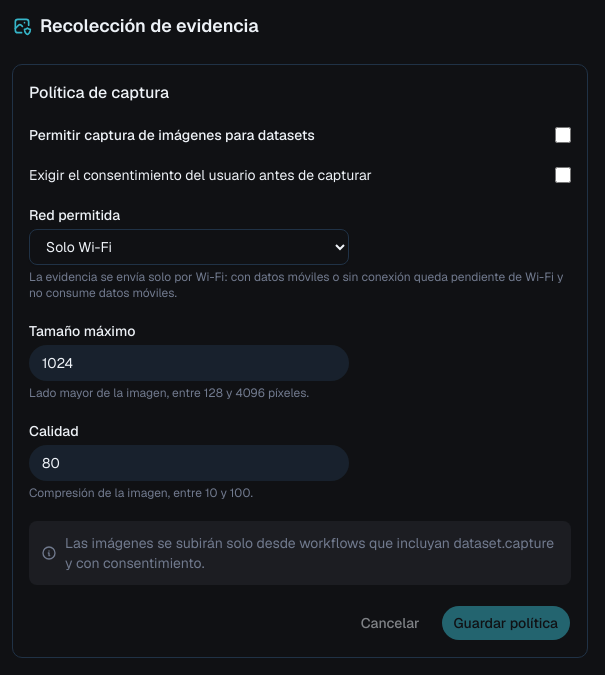
US-069: Respetar la política de red para evidencia › explains the selected network under Red permitida
Check: the switch labelled "Permitir captura de imágenes para datasets" is shown, box 555,127 -> 571,143
Check: the text with id "collection-network-help" shows "La evidencia se envía solo por Wi-Fi: con datos móviles o sin conexión queda pendiente de Wi-Fi y no consume datos móviles.", box 29,269 -> 563,301
Select "Wi-Fi y datos móviles" in the dropdown labelled "Red permitida" at point(189, 247), box 29,229 -> 349,265
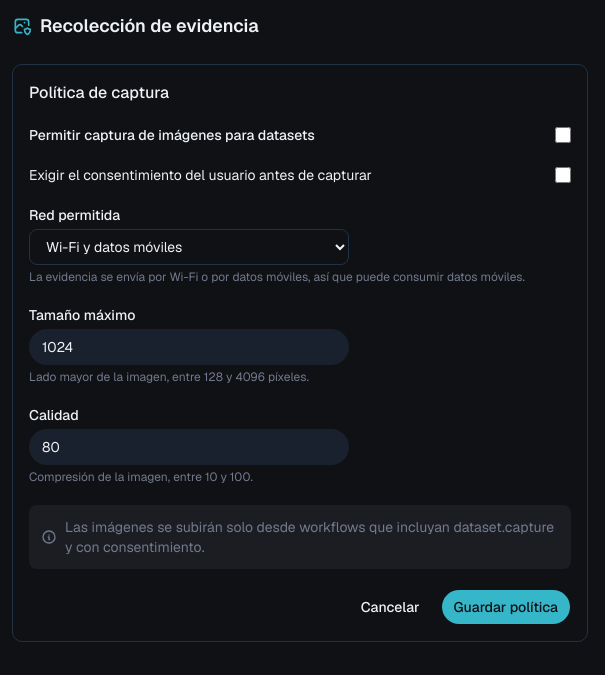
Check: the text with id "collection-network-help" shows "La evidencia se envía por Wi-Fi o por datos móviles, así que puede consumir datos móviles.", box 29,269 -> 525,285
